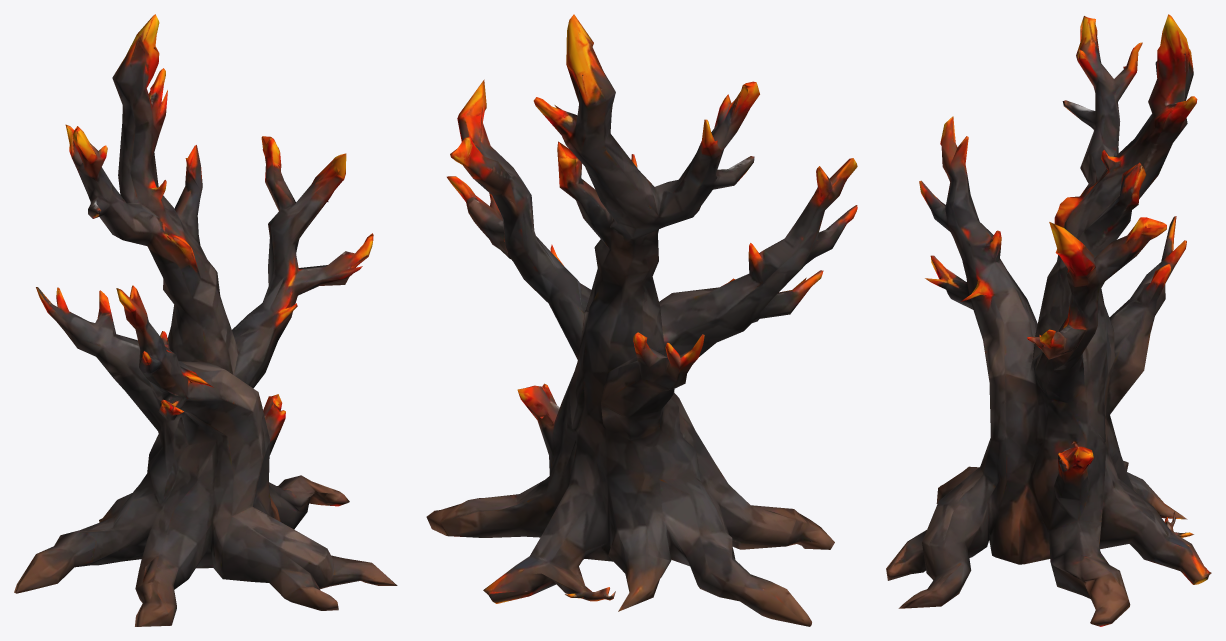
File: tree_volcano_charred.glb
The picture shows the model from 3 angles, left to right: view 1: azimuth 30°, elevation 25°; view 2: azimuth 150°, elevation 25°; view 3: azimuth 270°, elevation 25°; orthographic projection. The views are drawn at different scales.
Visible parts, largest first — view 1: BakeLow; view 2: BakeLow; view 3: BakeLow.
Boxes of the visible parts, <box> form: BakeLow: <box>14,14,397,626</box>; BakeLow: <box>426,14,857,626</box>; BakeLow: <box>886,14,1211,626</box>.
Size of the model in its own units: 0.5887 by 0.8572 by 0.4662.
Materials: 1 (1 with a texture image).
